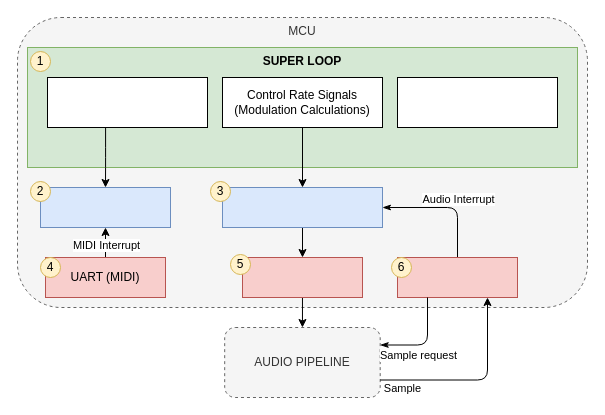
The diagram is 605 pixels wide and 415 high, and some of its shapes have lost their labels. Each missing label, with the box of its shape:
Audio ISR (update VRAM): (222, 186, 382, 228)
I2S: (396, 256, 518, 298)
MIDI ISR (ring buffer): (40, 186, 170, 228)
MIDI Parser (ring-buffer -> messages): (46, 76, 208, 128)
Voice Allocator (stealing): (396, 76, 558, 128)
VRCR: (242, 256, 362, 298)
